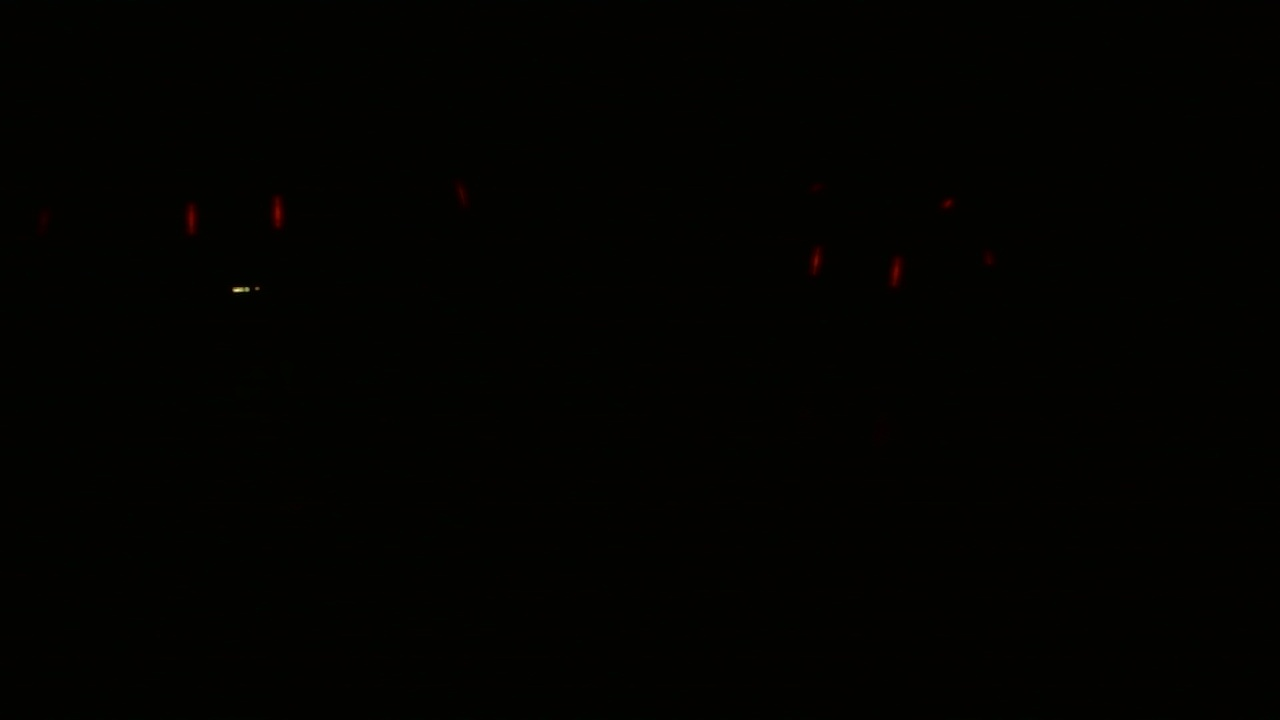pair1: (800, 242, 908, 287), (181, 200, 286, 235)
